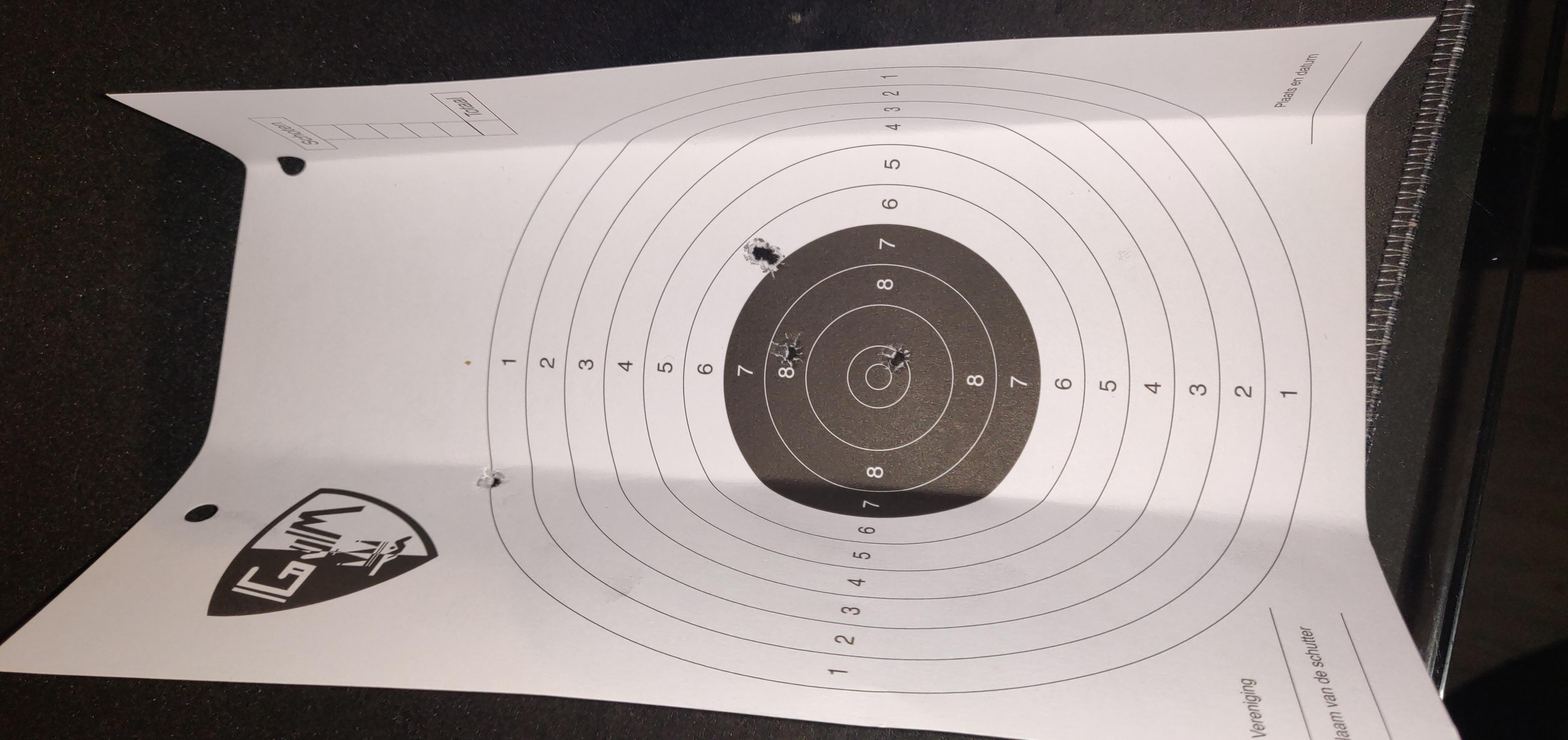hole: (761, 372, 797, 409), (656, 362, 688, 400), (795, 472, 827, 504), (1057, 247, 1091, 272), (783, 466, 808, 493)
